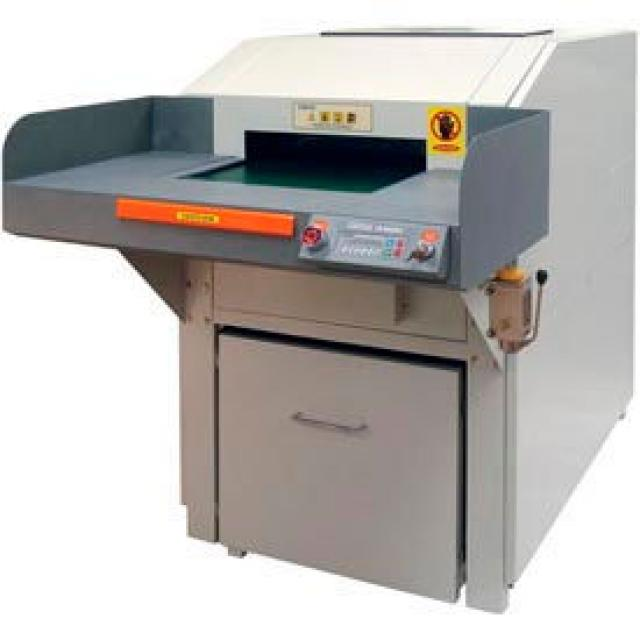palette: (0, 29, 640, 616)
